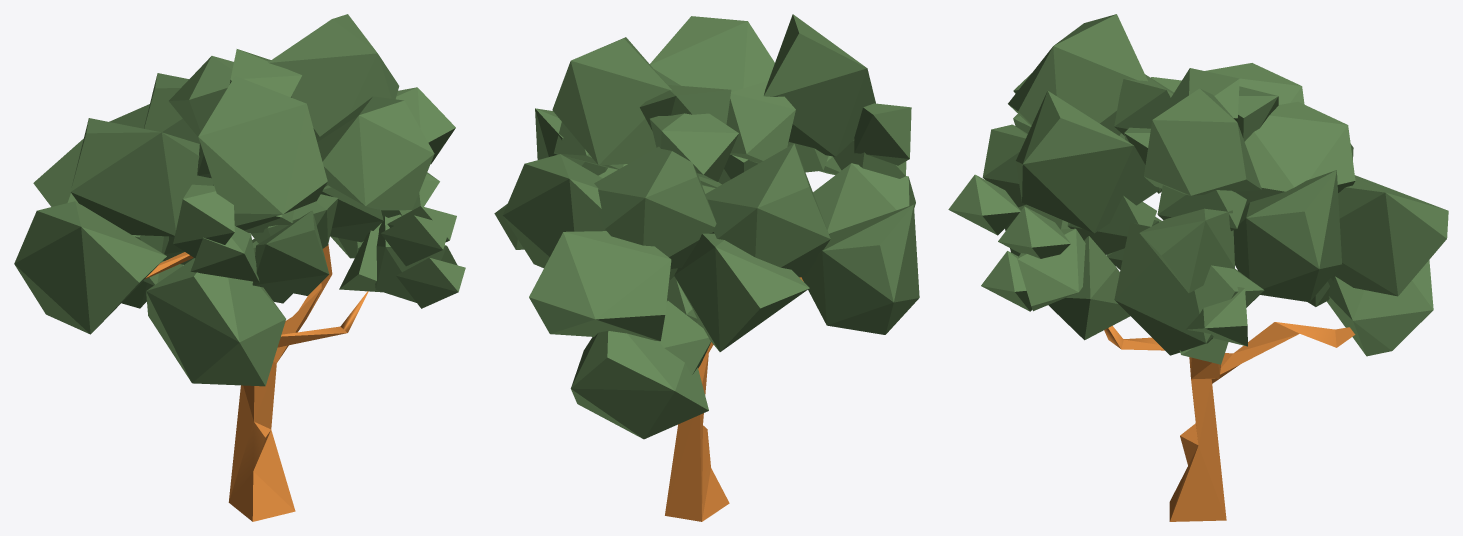
Rendered from Flower5.glb.
3 renders of one model, left to right at view 1: azimuth 30°, elevation 25°; view 2: azimuth 150°, elevation 25°; view 3: azimuth 270°, elevation 25°, orthographic. The views are drawn at different scales.
Visible parts, largest first — view 1: Stem, Branch; view 2: Stem, Branch; view 3: Stem, Branch.
Part boxes in pixels (x1,y1,x2,y2): Stem: [14, 14, 465, 386]; Branch: [144, 244, 368, 521]; Stem: [494, 14, 919, 439]; Branch: [665, 277, 803, 521]; Stem: [948, 14, 1448, 364]; Branch: [1104, 322, 1355, 521].
Bounding box in the file's own units: 6.27 × 6.99 × 6.79.
